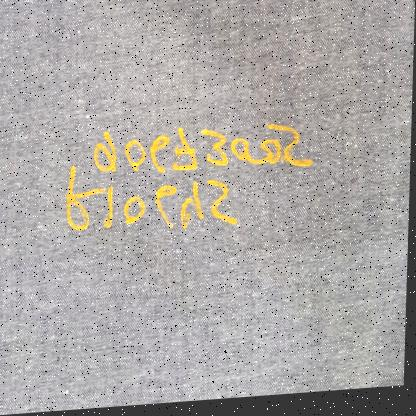spot: (62, 116, 324, 239)
